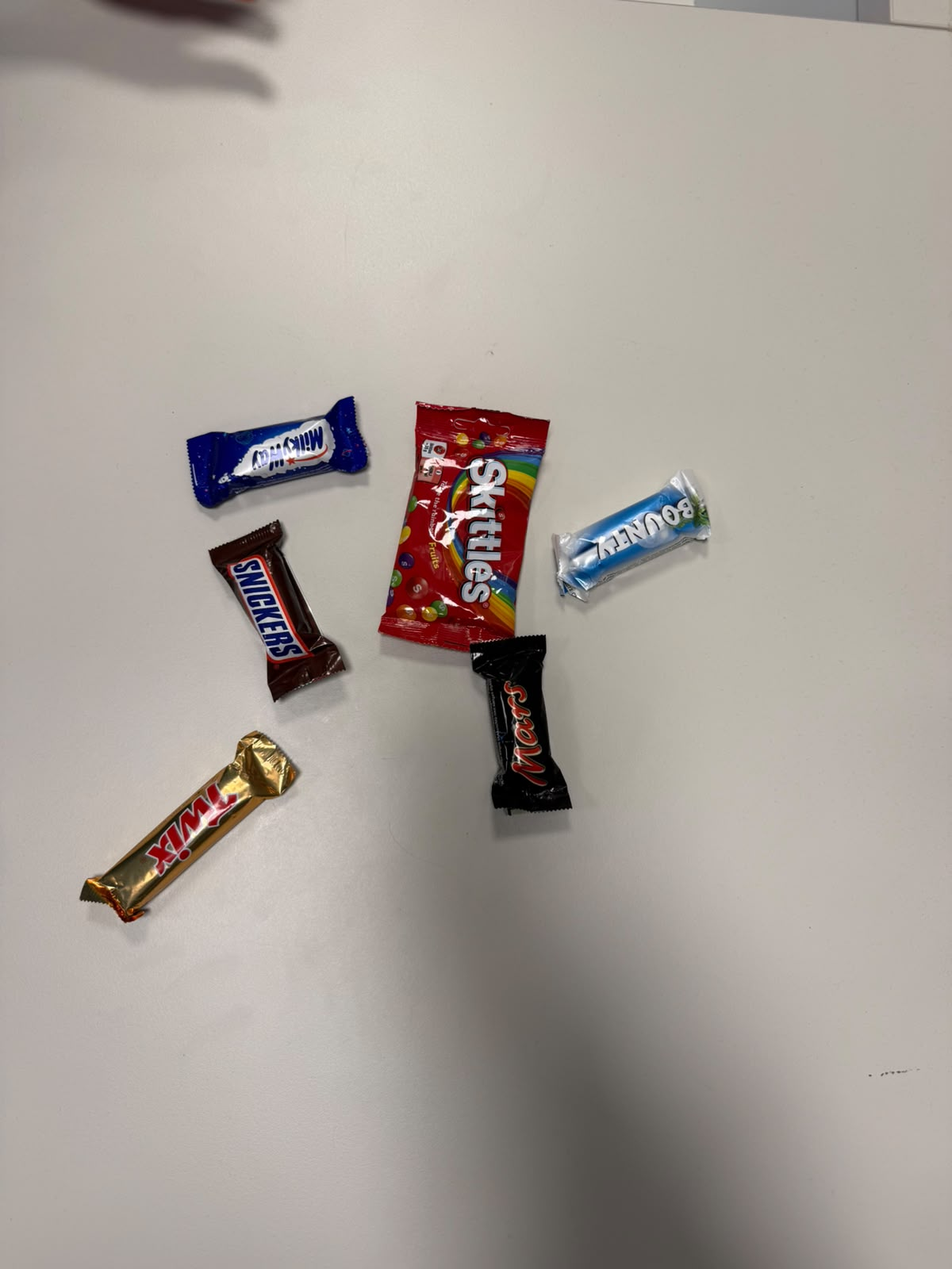Bounty: (532, 529, 710, 618)
Mars: (461, 638, 546, 834)
MilkyWay: (171, 423, 361, 517)
Skittles: (422, 376, 563, 656)
Snickers: (202, 535, 285, 731)
Twix: (264, 710, 336, 967)
